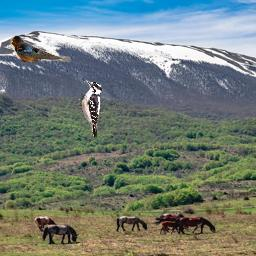Swallow: (10, 35, 71, 62)
Woodpecker: (79, 80, 103, 140)
